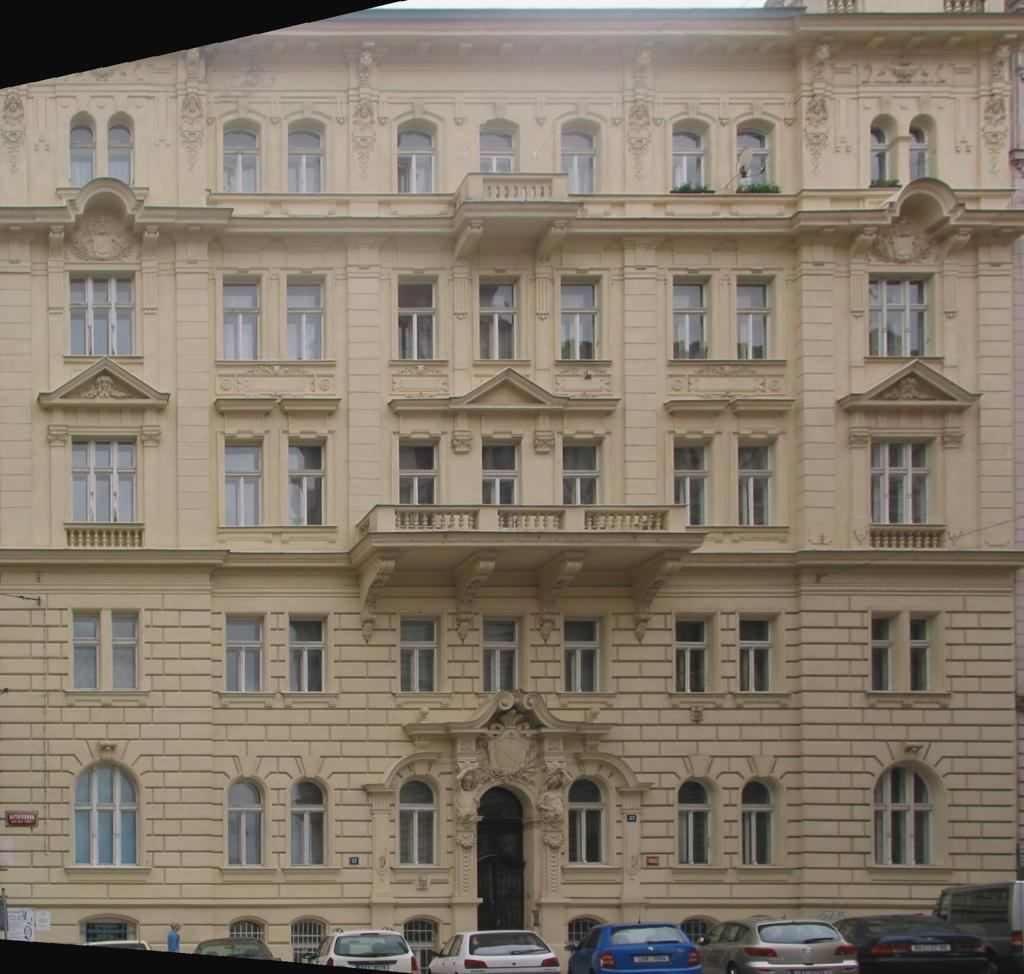window: (875, 760, 947, 867), (74, 760, 140, 867), (871, 438, 937, 525), (72, 435, 137, 523), (869, 273, 935, 357), (71, 271, 136, 356), (397, 773, 444, 866), (562, 438, 606, 526), (569, 772, 610, 866), (228, 775, 269, 866), (292, 775, 332, 867), (678, 775, 718, 867), (399, 438, 440, 527), (742, 775, 780, 868), (674, 438, 714, 526), (480, 275, 521, 360), (739, 437, 778, 526), (562, 615, 607, 692), (737, 275, 777, 360), (225, 438, 263, 527), (562, 276, 602, 360), (676, 613, 718, 693), (740, 612, 782, 692), (287, 274, 326, 360), (288, 438, 326, 526), (399, 275, 438, 360), (674, 276, 713, 360), (482, 614, 524, 692), (483, 438, 520, 526), (400, 615, 441, 693), (227, 614, 266, 693), (480, 118, 521, 193), (561, 118, 602, 193), (224, 275, 260, 360), (290, 614, 328, 693), (398, 118, 438, 193), (288, 117, 326, 193), (673, 118, 712, 192), (738, 118, 777, 192), (224, 117, 261, 193), (910, 612, 939, 690), (910, 114, 940, 187), (872, 611, 899, 691), (107, 111, 135, 187), (74, 609, 100, 690), (871, 114, 899, 187), (70, 112, 96, 187), (114, 610, 138, 690)
